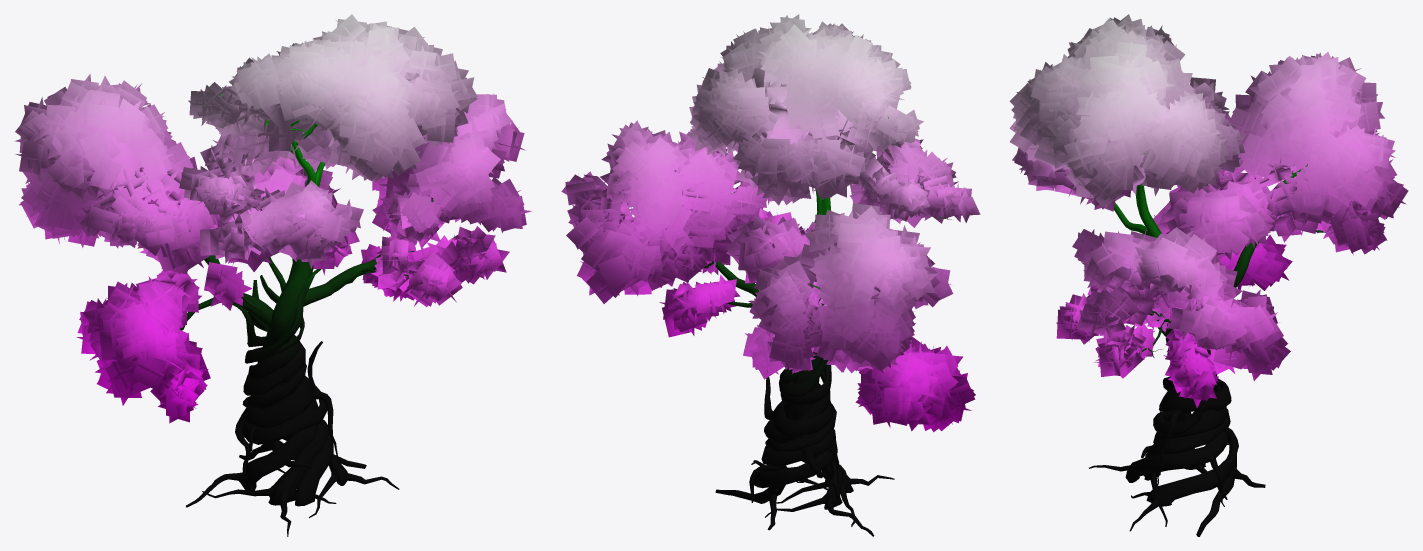
File: TSI_Broadleaf_Tree_01A.fbx
The picture shows the model from 3 angles, left to right: view 1: azimuth 30°, elevation 25°; view 2: azimuth 150°, elevation 25°; view 3: azimuth 270°, elevation 25°; orthographic projection. The views are drawn at different scales.
Parts seen in each view (by area): view 1: TSI_Broadleaf_Tree_01A_LOD0; view 2: TSI_Broadleaf_Tree_01A_LOD0; view 3: TSI_Broadleaf_Tree_01A_LOD0.
Part boxes in pixels (box(x1,y1,x2,y2)): TSI_Broadleaf_Tree_01A_LOD0: box(14, 14, 531, 536); TSI_Broadleaf_Tree_01A_LOD0: box(561, 14, 980, 536); TSI_Broadleaf_Tree_01A_LOD0: box(1009, 14, 1408, 536).
Size of the model in its own units: 2586 by 2745 by 2047.
